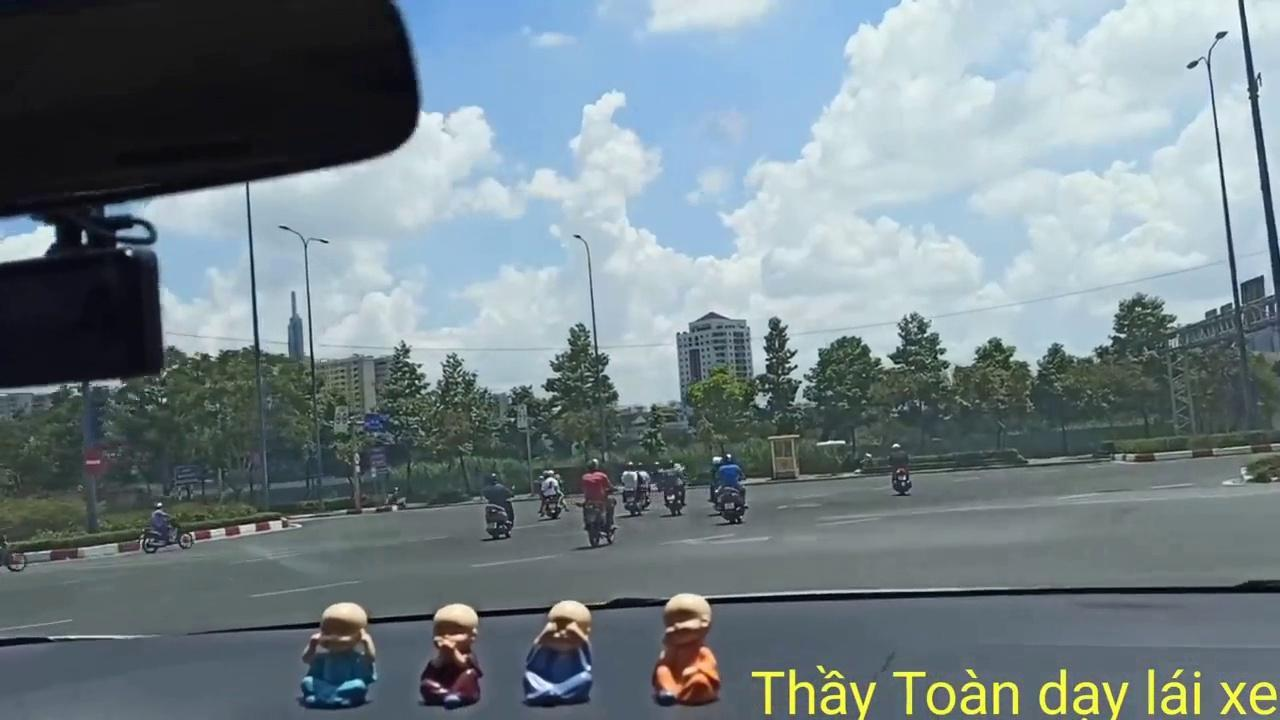Cấm cac phương tiện hoạt động trong khung giờ cố định: (333, 405, 348, 433)
Cấm đi ngược chiều: (80, 448, 104, 476)
Làn đường cho từng xe: (362, 412, 383, 434)
